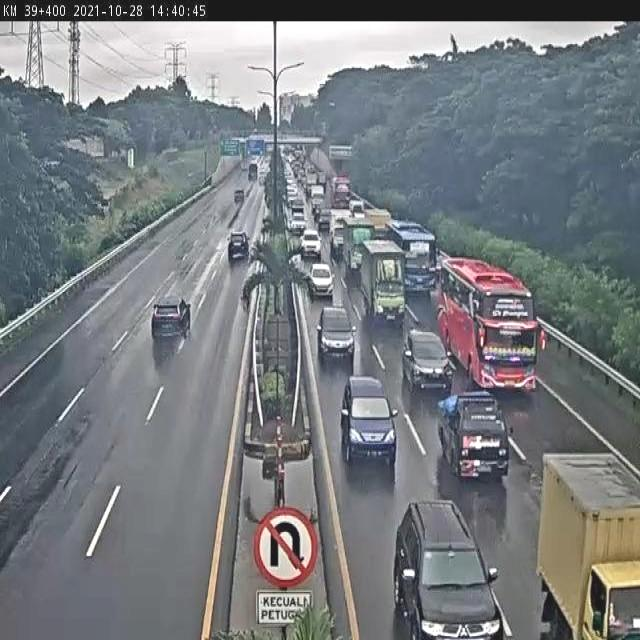Bus: (429, 231, 573, 391), (387, 220, 436, 294)
Car: (436, 390, 509, 481), (151, 299, 191, 341), (228, 232, 250, 262), (300, 228, 322, 258), (234, 190, 245, 203)
Truck: (535, 454, 639, 638), (395, 501, 502, 636), (338, 374, 398, 473), (354, 238, 406, 330), (402, 328, 453, 396), (336, 215, 376, 277), (316, 305, 355, 366), (260, 311, 292, 378), (258, 368, 289, 424), (152, 329, 187, 371), (241, 266, 269, 310), (307, 262, 334, 299), (276, 439, 310, 462), (331, 175, 351, 209), (308, 146, 330, 176), (354, 283, 369, 323), (289, 252, 307, 282), (286, 227, 304, 256), (324, 100, 337, 137), (309, 184, 325, 213), (331, 230, 345, 262), (321, 234, 333, 270), (290, 200, 305, 226), (316, 209, 332, 233), (249, 154, 262, 180), (402, 60, 430, 72), (247, 256, 265, 274), (372, 223, 391, 240), (248, 240, 261, 264), (329, 145, 353, 158), (221, 139, 239, 155), (282, 146, 297, 165), (306, 172, 318, 195), (268, 155, 280, 178), (350, 199, 364, 218), (278, 149, 289, 172), (259, 162, 270, 185), (286, 186, 298, 207), (283, 211, 294, 233), (292, 160, 304, 180), (42, 158, 61, 170), (292, 146, 304, 163), (315, 174, 326, 192), (336, 173, 350, 187), (262, 215, 272, 232), (240, 139, 248, 159), (162, 147, 178, 157), (272, 142, 285, 154), (363, 200, 376, 212), (265, 142, 275, 156), (238, 232, 248, 246), (99, 198, 110, 210), (242, 296, 249, 314), (128, 148, 134, 169), (203, 175, 213, 187), (318, 133, 328, 144), (240, 160, 248, 172), (220, 140, 226, 155), (240, 132, 248, 142), (248, 168, 255, 179), (238, 180, 245, 191), (187, 171, 194, 178)
